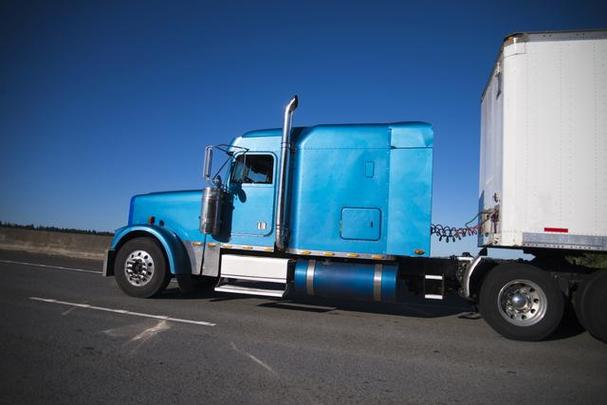卡车: (94, 22, 607, 344)
